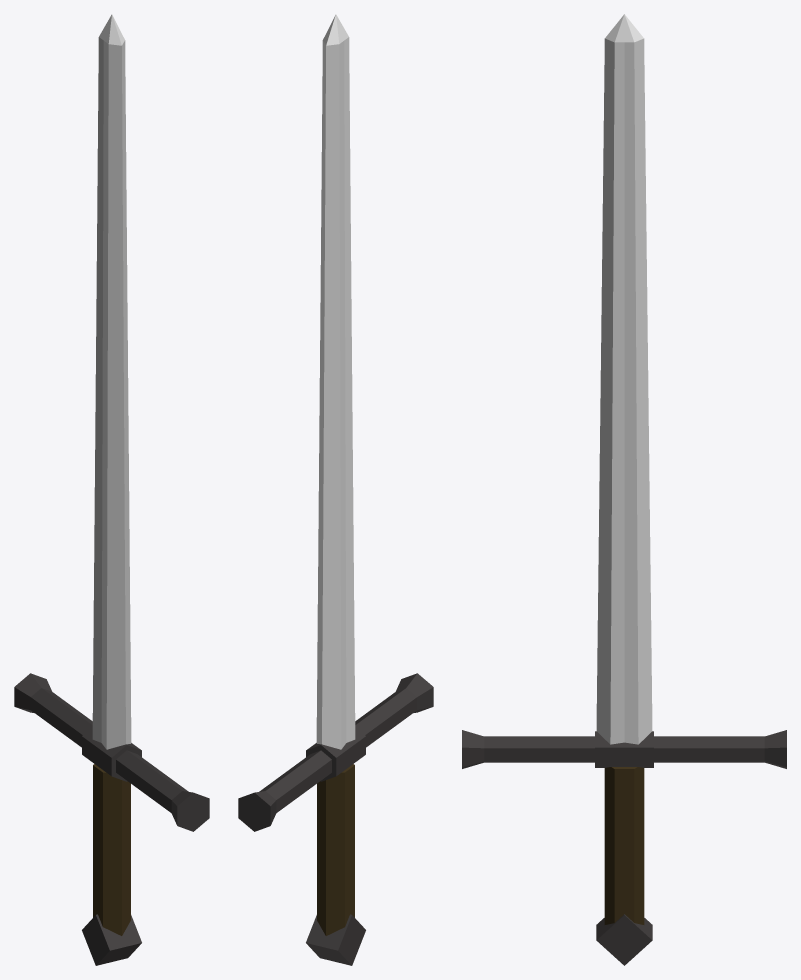
The model's file is Sword.fbx.
The picture shows the model from 3 angles, left to right: view 1: azimuth 30°, elevation 25°; view 2: azimuth 150°, elevation 25°; view 3: azimuth 270°, elevation 25°; orthographic projection.
Visible parts, largest first — view 1: Blade, Guard, Handle, Hilt; view 2: Blade, Guard, Handle, Hilt; view 3: Blade, Guard, Handle, Hilt.
Part boxes in pixels (x1,y1,x2,y2): Blade: [92, 14, 131, 749]; Guard: [14, 673, 209, 831]; Handle: [93, 764, 130, 935]; Hilt: [82, 914, 141, 965]; Blade: [316, 14, 355, 749]; Guard: [238, 673, 433, 831]; Handle: [317, 764, 354, 935]; Hilt: [306, 914, 365, 965]; Blade: [596, 14, 652, 744]; Guard: [462, 730, 786, 768]; Handle: [604, 767, 644, 924]; Hilt: [596, 914, 652, 965].
Size of the model in its own units: 16.85 by 471 by 147.
